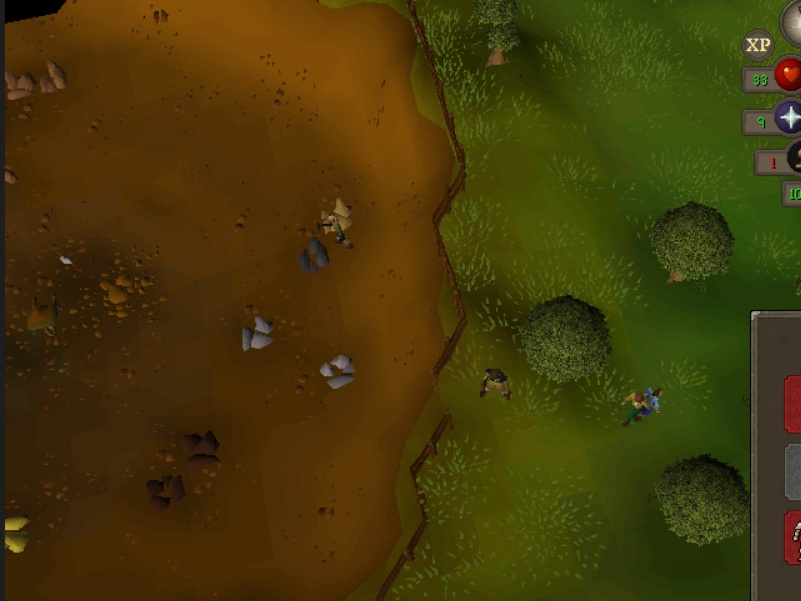clay: (314, 195, 362, 237)
copper: (34, 53, 77, 98), (4, 61, 38, 108)
gold: (1, 513, 34, 556)
iron: (180, 426, 229, 473), (141, 473, 192, 512)
tin: (235, 311, 288, 360), (313, 346, 366, 395)
